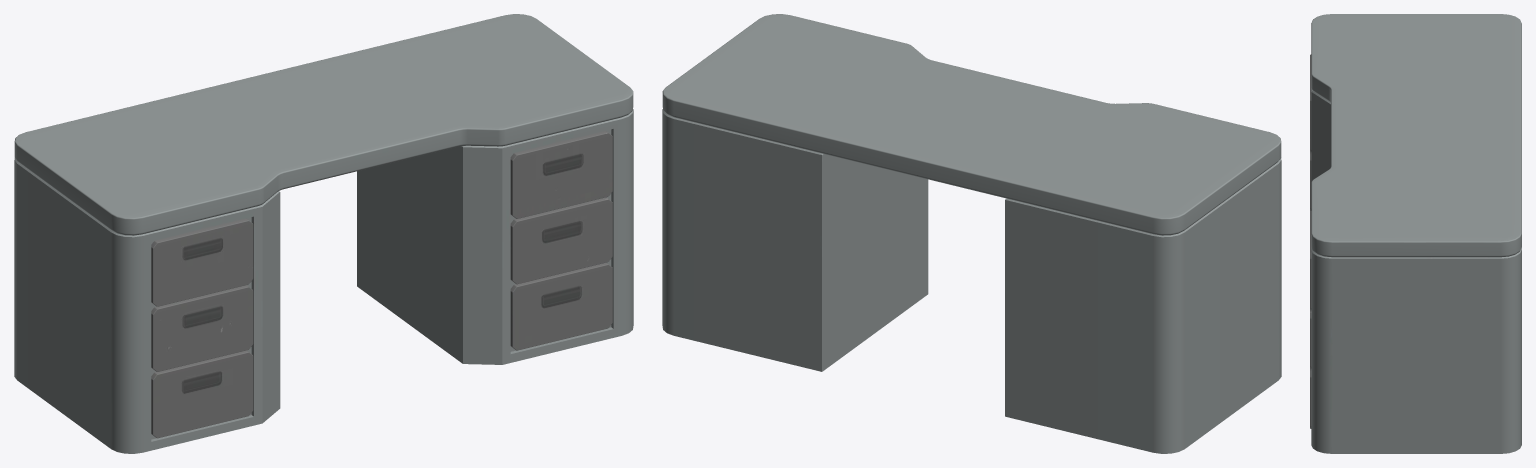
File: laboratory-desk.glb
3 views of the same model, side by side, from view 1: azimuth 30°, elevation 25°; view 2: azimuth 150°, elevation 25°; view 3: azimuth 270°, elevation 25° (orthographic). The views are drawn at different scales.
Parts seen in each view (by area): view 1: Object_2; view 2: Object_2; view 3: Object_2.
Part boxes in pixels (bbox=[...]): Object_2: bbox=[14, 14, 633, 453]; Object_2: bbox=[662, 14, 1281, 453]; Object_2: bbox=[1310, 14, 1521, 453].
Bounding box in the file's own units: 1.82 × 0.7886 × 0.7135.
1 material, 1 textured.
